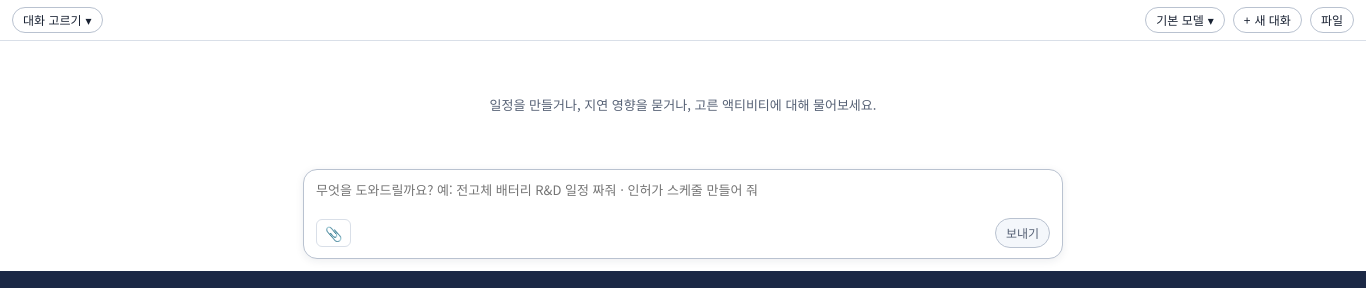
Test: 지시서 시험 (실제 사건 모양) › streams text into one assistant message
The image size is (1366, 288).
Type "hi" into the text box named "에이전트에게 요청".
click(683, 199); type("hi")  # box x1=316 y1=180 x2=1050 y2=218
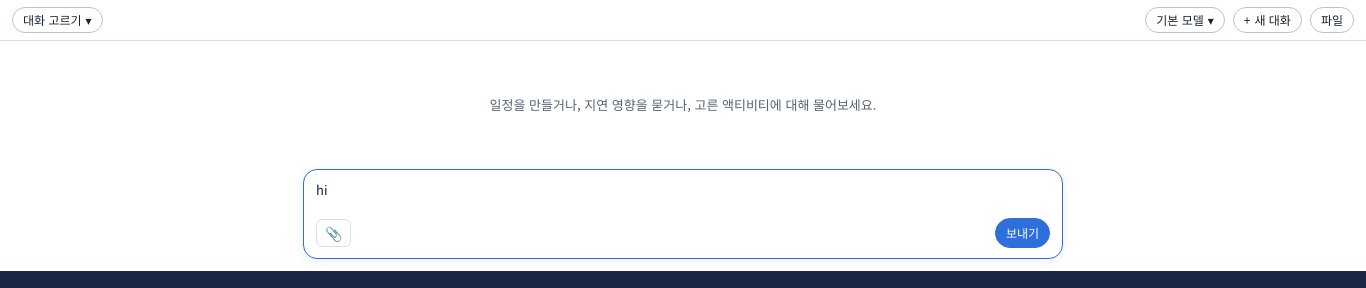
Click the button "보내기".
click(1022, 233)  # box x1=995 y1=218 x2=1050 y2=248
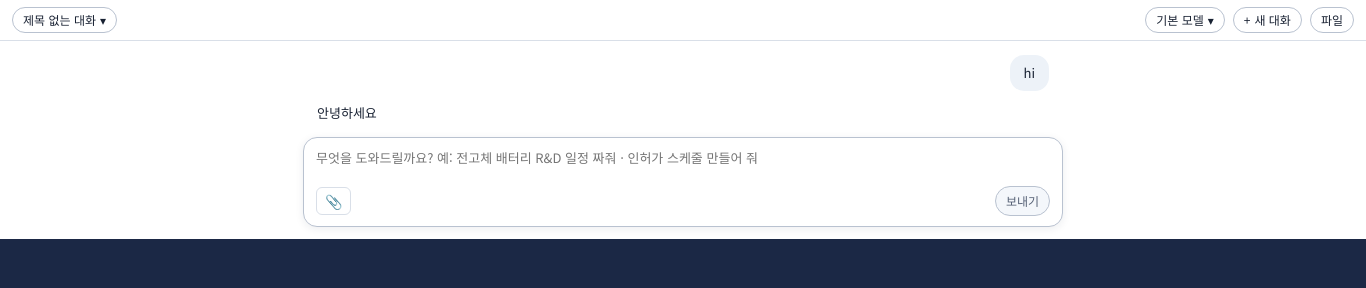
Now the text "안녕하세요" is shown, box x1=317 y1=103 x2=377 y2=122
